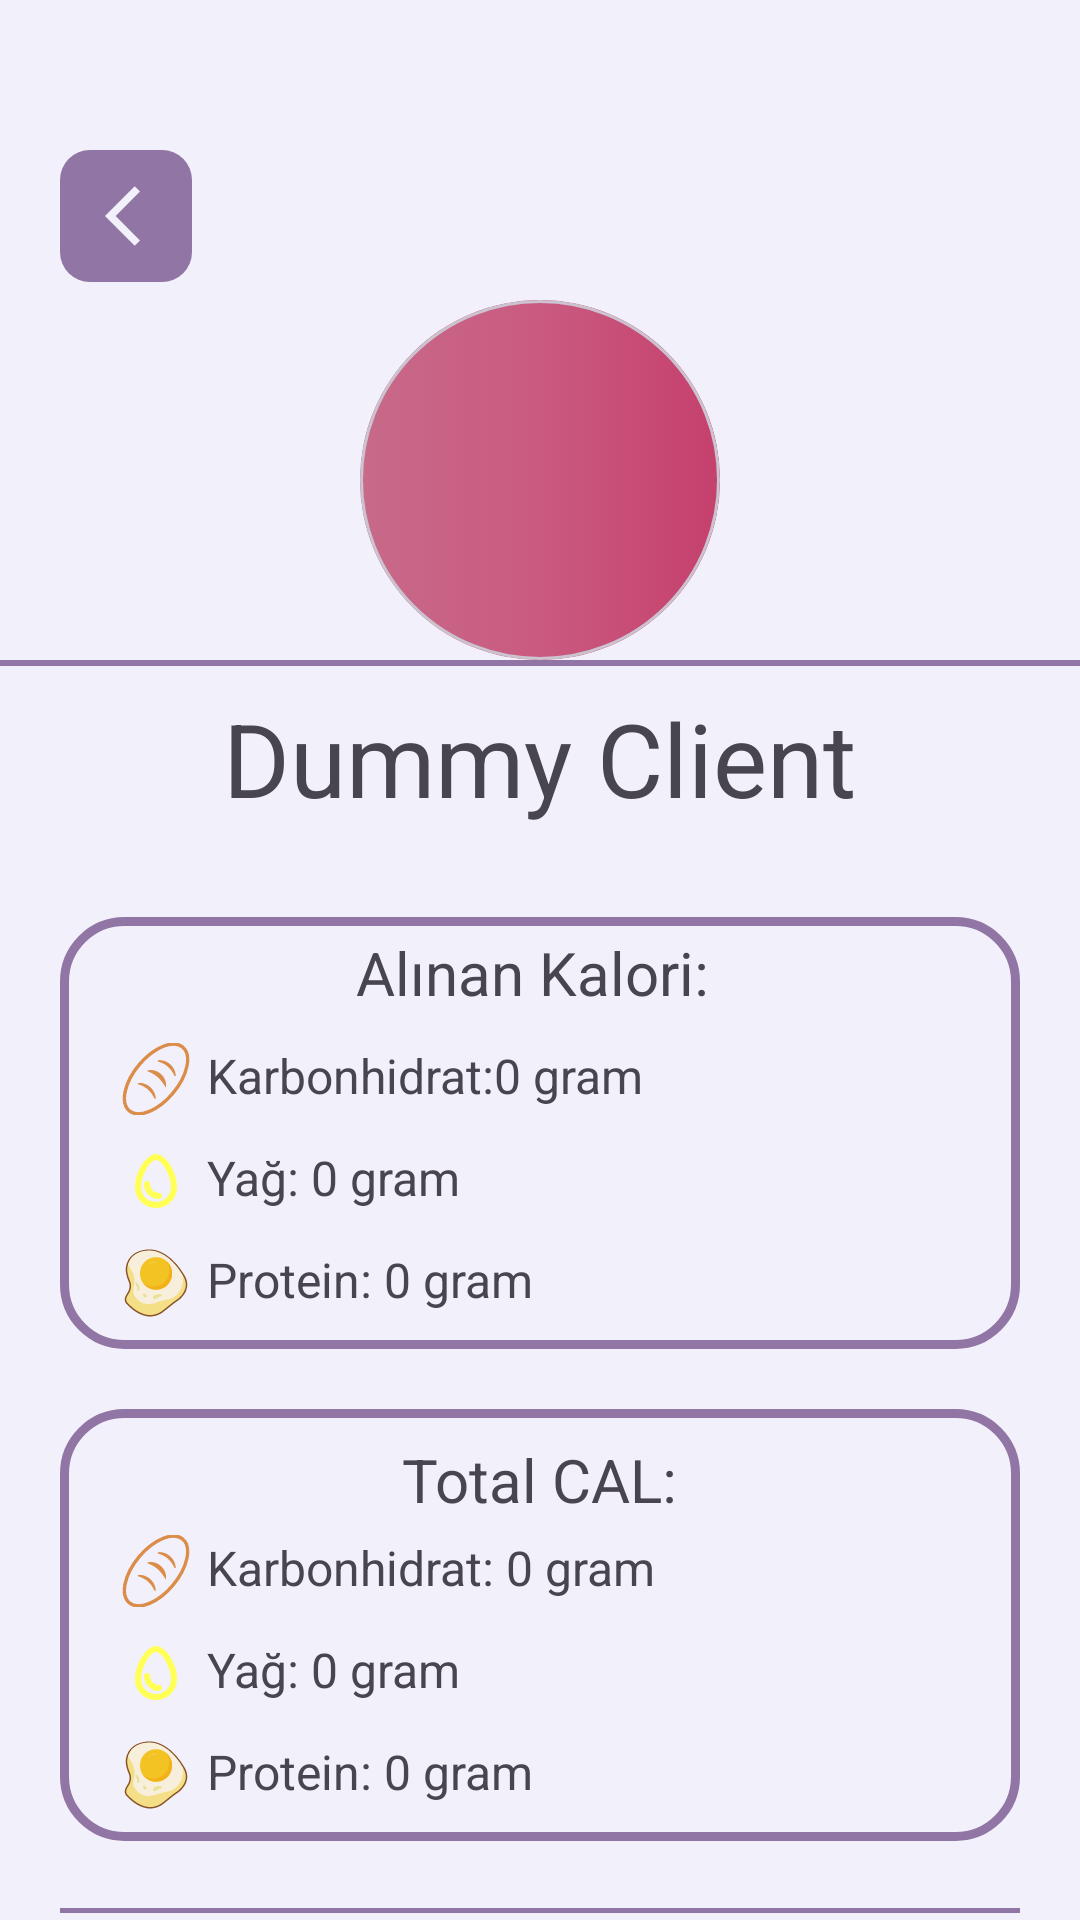

Point at icon controls on the screen. Image size 1080×1920, points as (x,y).
back: (126,216)
